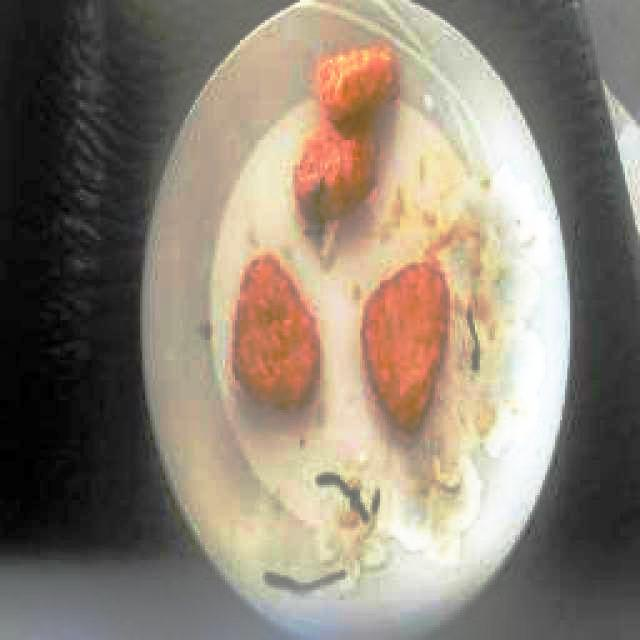Hashbrown: (297, 49, 402, 227), (358, 259, 452, 438), (231, 253, 324, 416)
